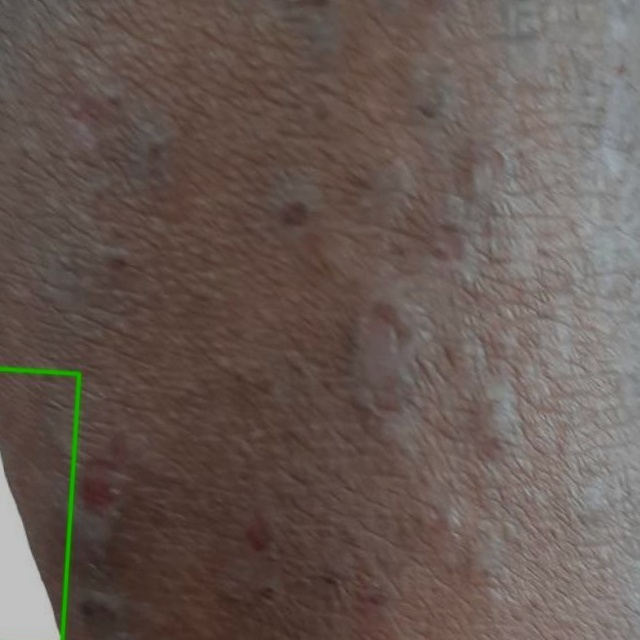Atopic Dermatitis: (0, 368, 79, 639)
